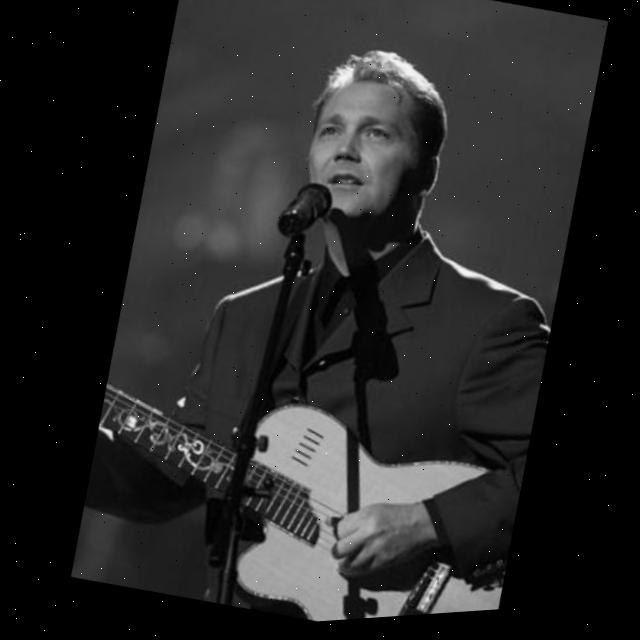face: (288, 43, 463, 252)
